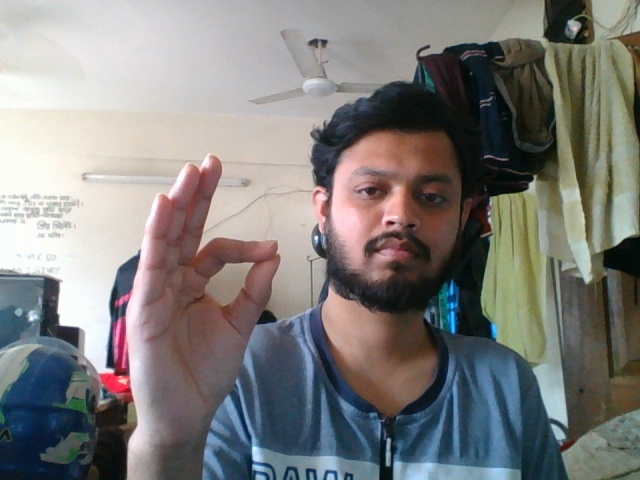ieo: (115, 150, 286, 458)
